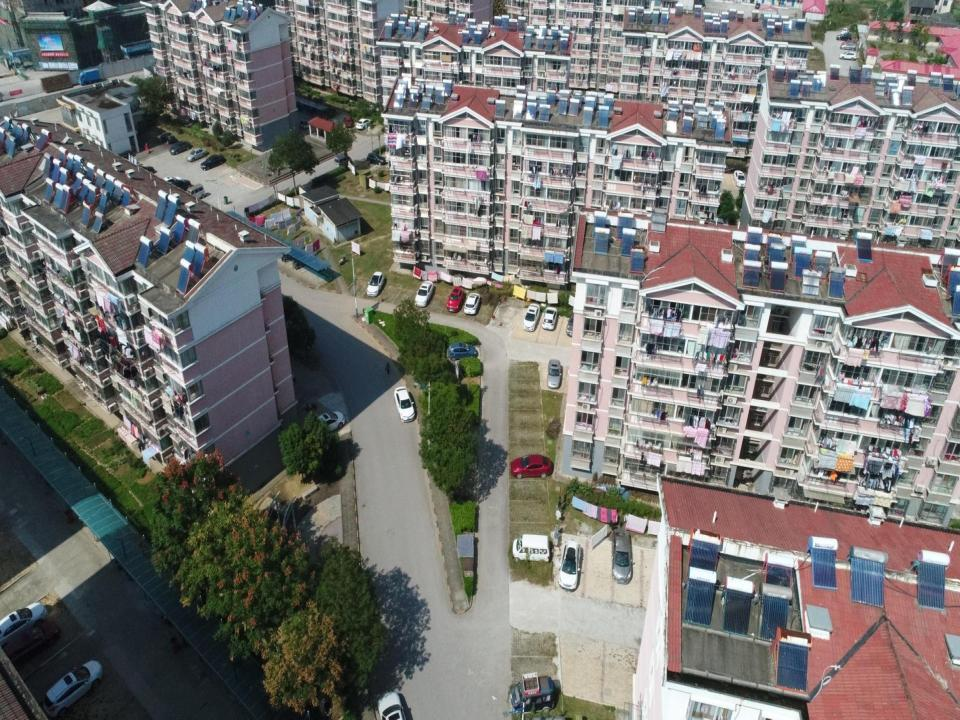car: (43, 659, 103, 718), (0, 620, 60, 670), (0, 603, 47, 647), (612, 528, 632, 585), (559, 541, 580, 592), (510, 454, 552, 479), (394, 386, 417, 422), (376, 692, 406, 719), (313, 410, 345, 434), (447, 339, 477, 361), (522, 303, 540, 333), (414, 281, 434, 307), (446, 286, 464, 314), (542, 304, 558, 331), (200, 154, 223, 171), (548, 360, 561, 390), (464, 292, 480, 316), (186, 147, 207, 162), (171, 178, 191, 193), (565, 308, 575, 337), (170, 141, 190, 155), (366, 151, 386, 165), (733, 170, 746, 190), (162, 175, 181, 187), (840, 51, 858, 61), (160, 132, 176, 143), (356, 119, 372, 130), (140, 163, 154, 174), (840, 43, 856, 51), (837, 33, 852, 41), (842, 40, 856, 48), (345, 115, 352, 127), (839, 32, 854, 37), (842, 27, 850, 32)
truck: (78, 68, 100, 85)
van: (509, 672, 561, 718), (512, 534, 551, 562), (368, 271, 384, 297), (186, 183, 206, 200), (334, 153, 352, 168)
